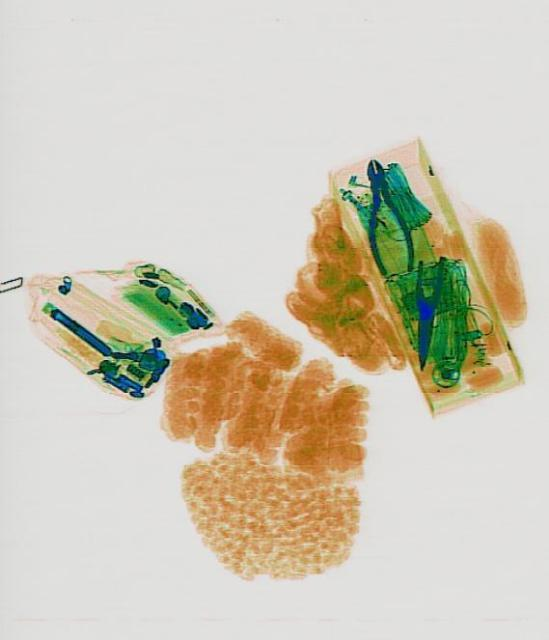Pliers: (350, 153, 417, 279), (405, 252, 444, 370)
